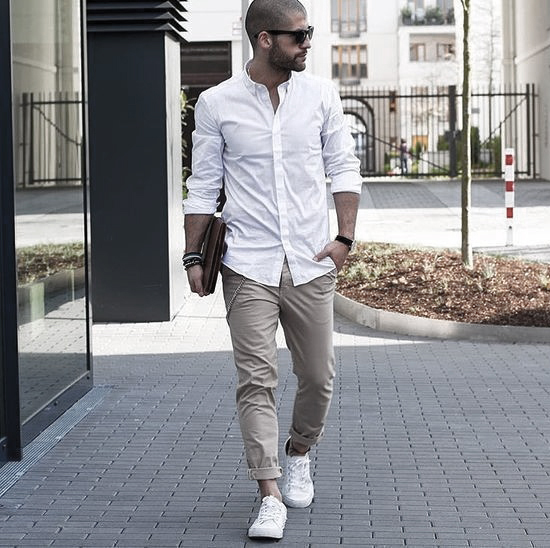NOTSAFE: (212, 1, 341, 301)
